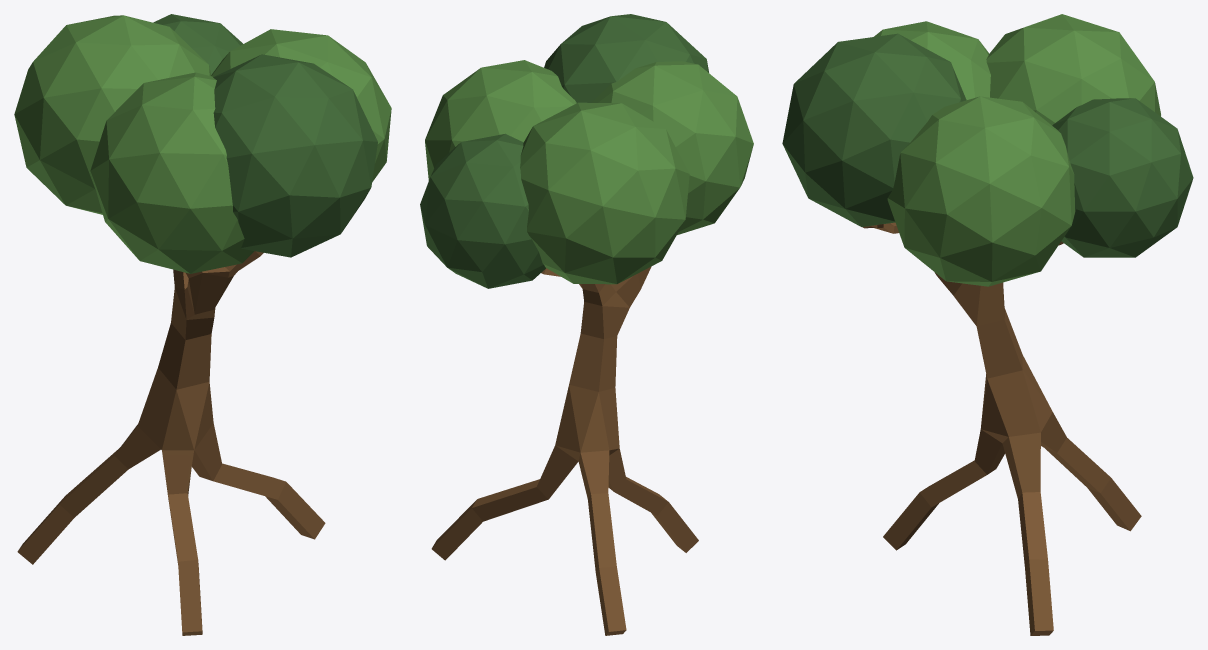
Rendered from Tree.fbx.
The picture shows the model from 3 angles, left to right: view 1: azimuth 30°, elevation 25°; view 2: azimuth 150°, elevation 25°; view 3: azimuth 270°, elevation 25°; orthographic projection. The views are drawn at different scales.
Visible parts, largest first — view 1: Tree; view 2: Tree; view 3: Tree.
Boxes of the visible parts, <box> form: Tree: <box>14,14,391,635</box>; Tree: <box>420,14,753,635</box>; Tree: <box>782,14,1193,635</box>.
Bounding box in the file's own units: 291 × 506 × 349.
